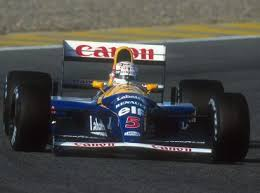FormulaOneCar: (3, 33, 255, 169)
